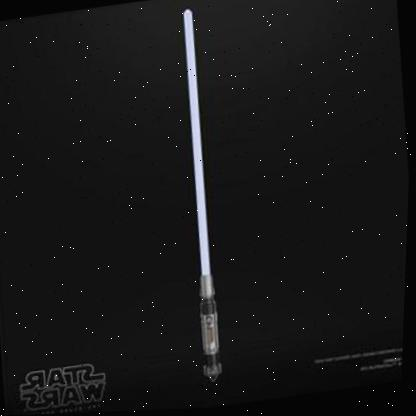lightsaber: (161, 4, 239, 386)
